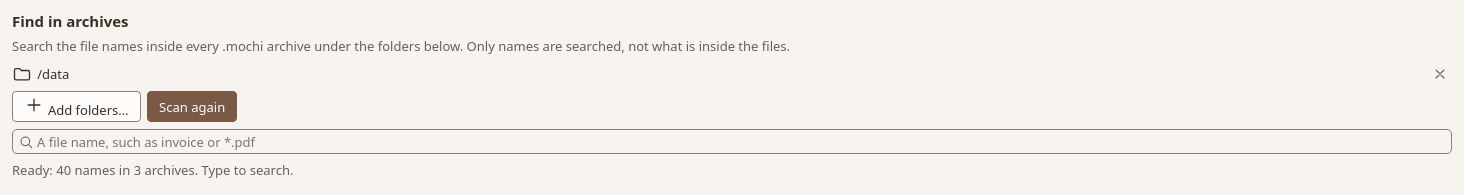
Test case: only a finished scan with nothing left out may say No matches
Type "nothing" into the search field with test id "find-query" at {"x": 732, "y": 142}, box [12,129,1452,154]
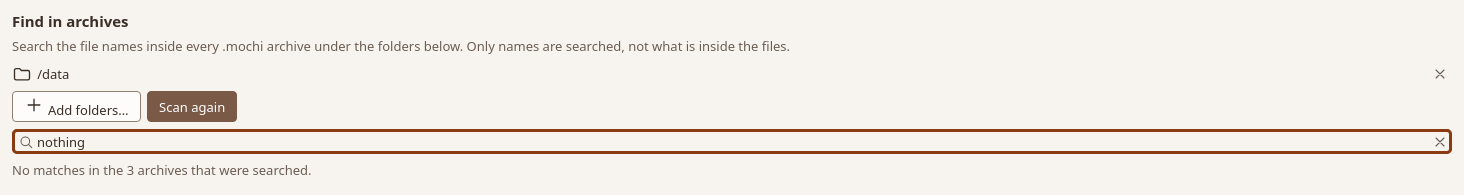
Result: the message with test id "find-status" reads "No matches in the 3 archives that were searched." at [12,161,312,179]
